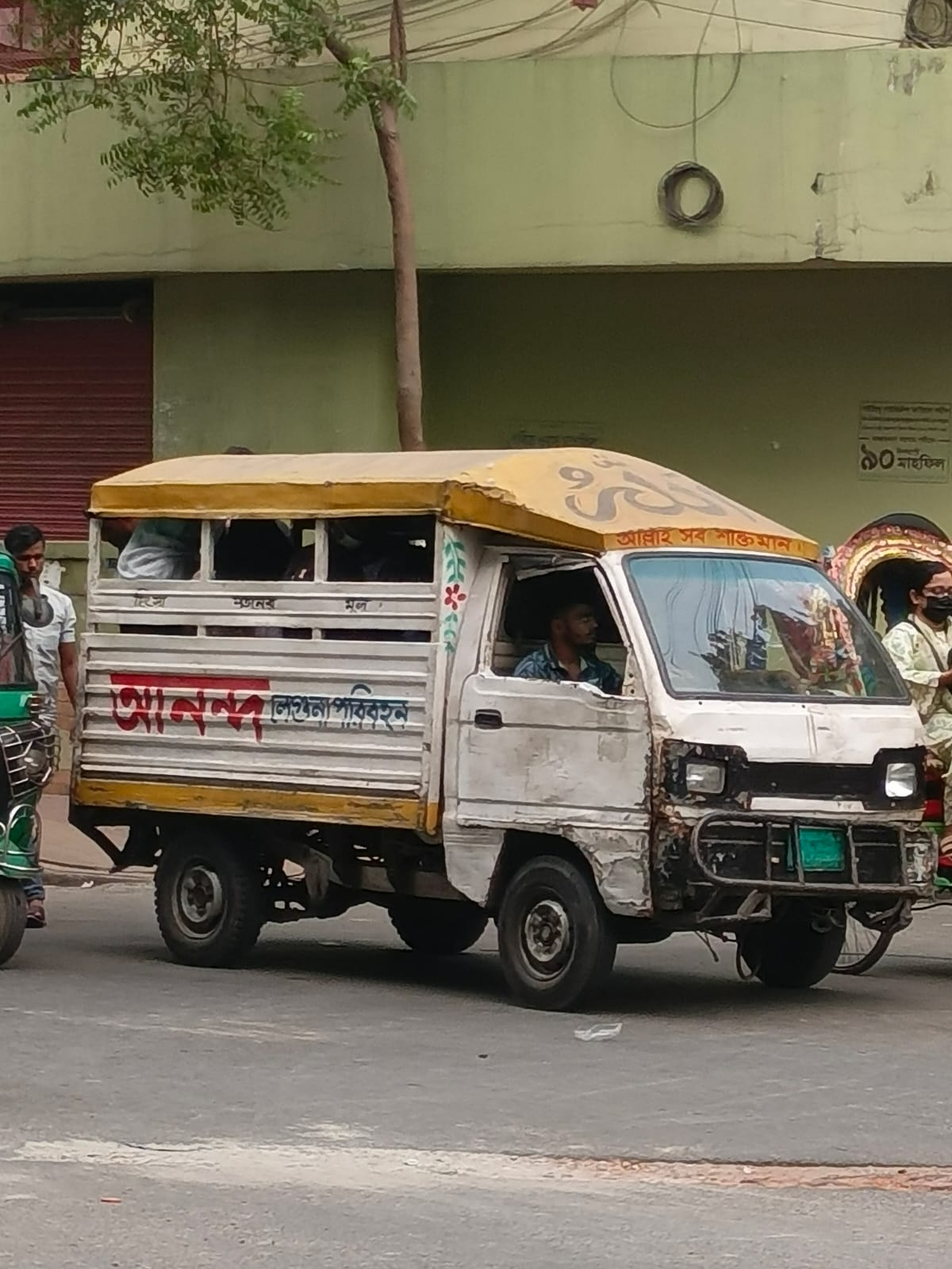Leguna: (75, 426, 939, 1028)
